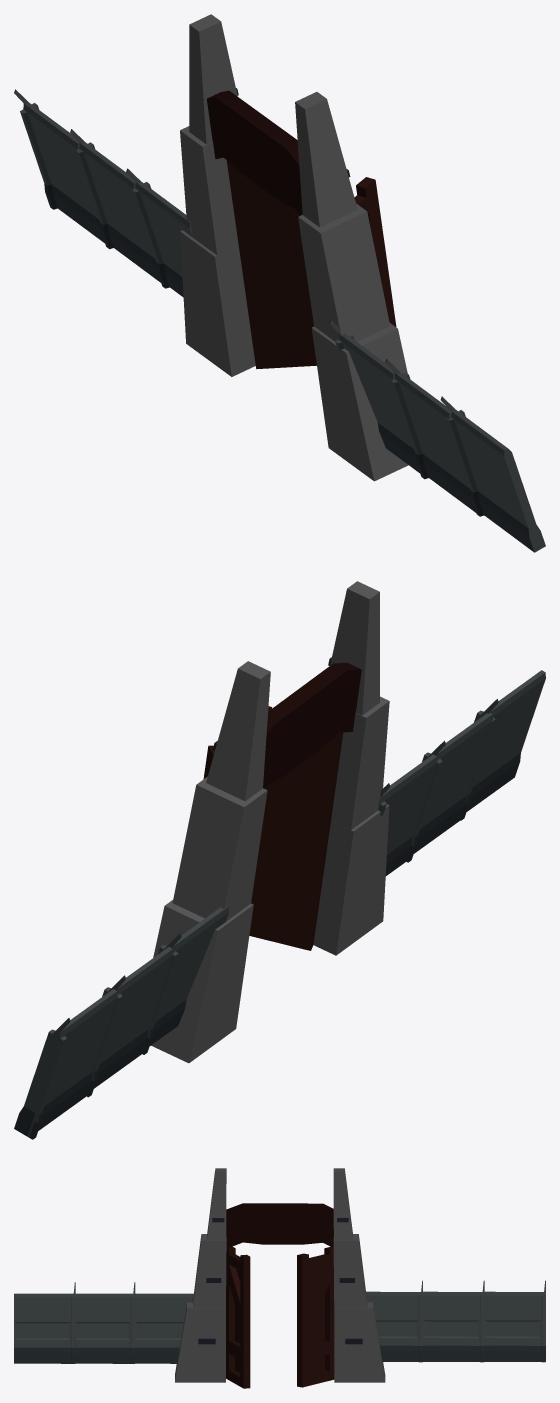
Rendered from gate.FBX.
3 views of the same model, one above another, from view 1: azimuth 30°, elevation 25°; view 2: azimuth 150°, elevation 25°; view 3: azimuth 270°, elevation 25° (orthographic). The views are drawn at different scales.
Parts seen in each view (by area): view 1: Gate_0, frence_105, frence_104, frence_101, frence_100, frence_103, frence_102; view 2: Gate_0, frence_100, frence_101, frence_104, frence_105, frence_102, frence_103; view 3: Gate_0, frence_105, frence_101, frence_100, frence_104, frence_103, frence_102.
Part boxes in pixels (x1=…): Gate_0: x1=180, y1=14, x2=408, y2=481; frence_105: x1=440, y1=396, x2=545, y2=552; frence_104: x1=385, y1=359, x2=475, y2=512; frence_101: x1=70, y1=129, x2=160, y2=282; frence_100: x1=14, y1=89, x2=104, y2=243; frence_103: x1=329, y1=319, x2=419, y2=472; frence_102: x1=126, y1=168, x2=192, y2=297; Gate_0: x1=151, y1=581, x2=389, y2=1063; frence_100: x1=14, y1=989, x2=117, y2=1139; frence_101: x1=86, y1=947, x2=173, y2=1097; frence_104: x1=406, y1=713, x2=492, y2=862; frence_105: x1=460, y1=670, x2=545, y2=820; frence_102: x1=142, y1=906, x2=228, y2=1054; frence_103: x1=378, y1=754, x2=437, y2=876; Gate_0: x1=175, y1=1168, x2=385, y2=1388; frence_105: x1=14, y1=1282, x2=75, y2=1363; frence_101: x1=423, y1=1280, x2=484, y2=1362; frence_100: x1=484, y1=1280, x2=545, y2=1362; frence_104: x1=75, y1=1282, x2=135, y2=1363; frence_103: x1=135, y1=1293, x2=193, y2=1363; frence_102: x1=366, y1=1280, x2=422, y2=1362.
Size of the model in its own units: 7.68 by 20.87 by 50.18.
